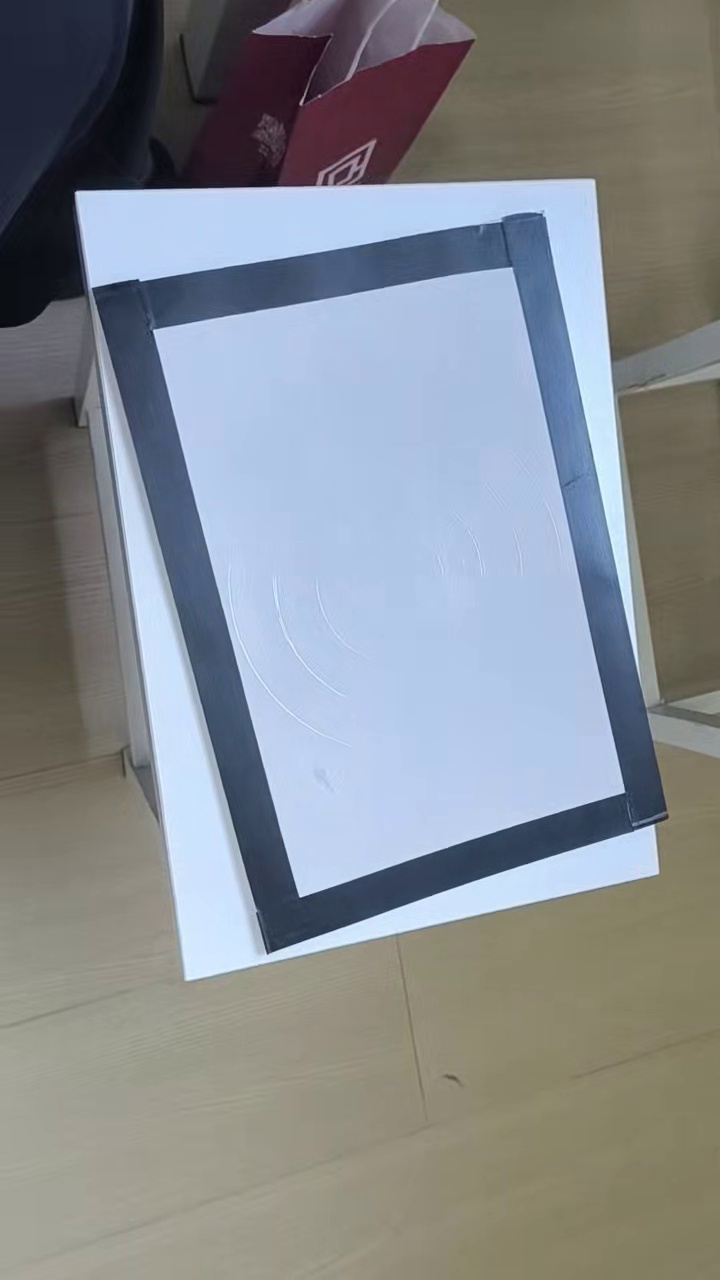board: (91, 217, 667, 950)
